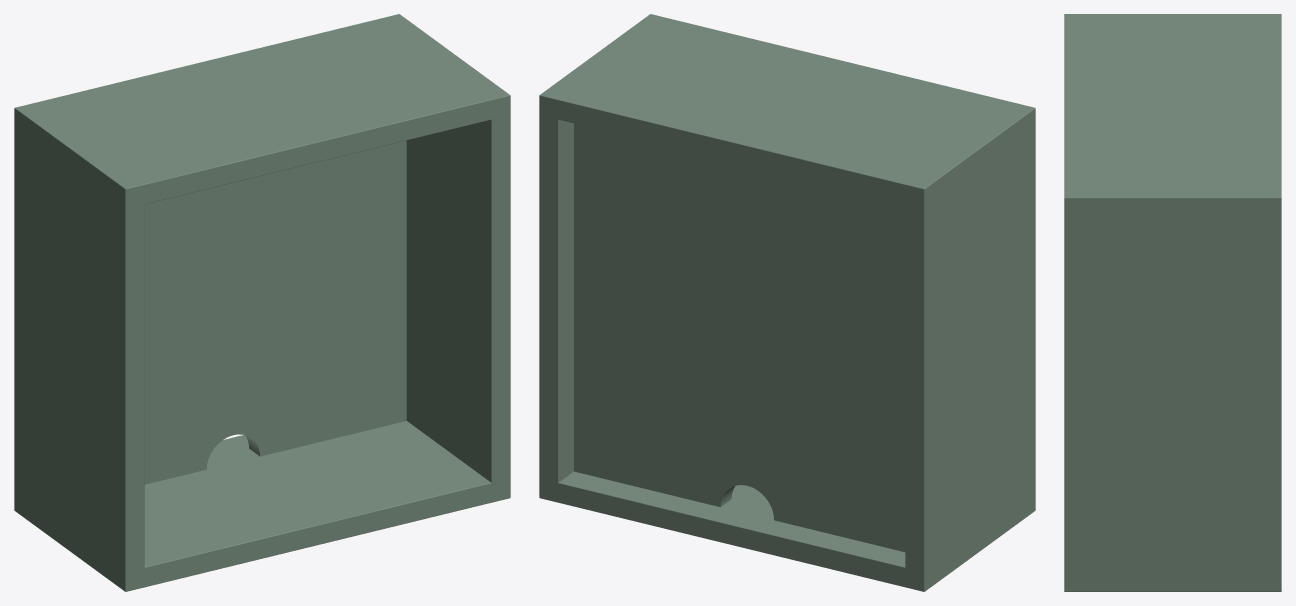
Rendered from MODH_1X1_A_B_AP_VA.glb.
3 renders of one model, left to right at view 1: azimuth 30°, elevation 25°; view 2: azimuth 150°, elevation 25°; view 3: azimuth 270°, elevation 25°, orthographic. The views are drawn at different scales.
Bounding box in the file's own units: 360 × 360 × 180.
